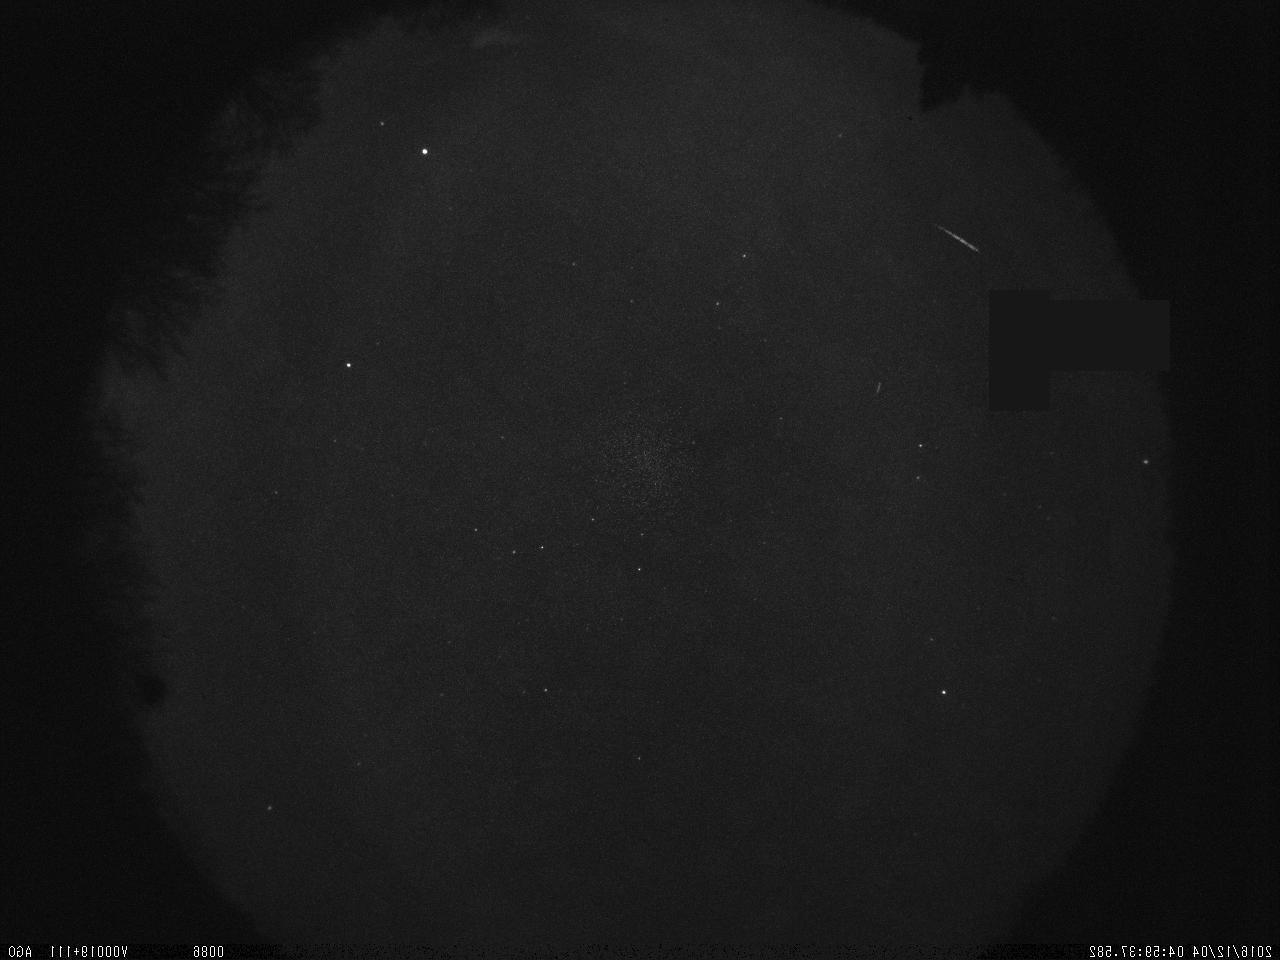meteor: (930, 206, 989, 264)
